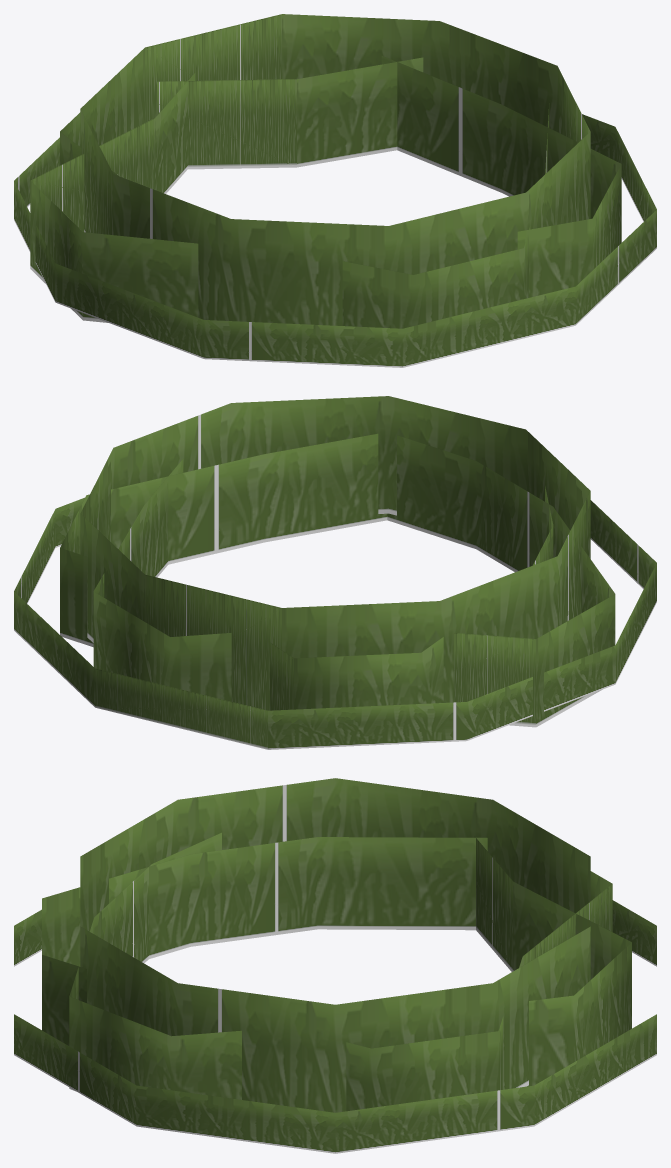
File: grasscircle.fbx
The picture shows the model from 3 angles, top to bottom: view 1: azimuth 30°, elevation 25°; view 2: azimuth 150°, elevation 25°; view 3: azimuth 270°, elevation 25°; orthographic projection. The views are drawn at different scales.
Parts seen in each view (by area): view 1: polySurface1500; view 2: polySurface1500; view 3: polySurface1500.
Boxes of the visible parts, bbox=[...] form: polySurface1500: bbox=[14, 14, 656, 367]; polySurface1500: bbox=[14, 396, 656, 749]; polySurface1500: bbox=[14, 778, 656, 1153].
Bounding box in the file's own units: 156 × 33.36 × 148.
